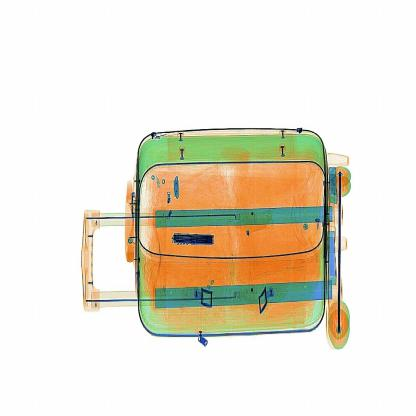scissors: (169, 229, 218, 249)
